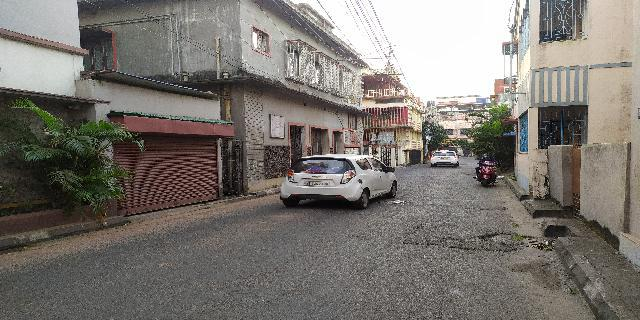Car: (276, 152, 404, 209), (429, 147, 462, 170)
Motorbike: (476, 147, 499, 190)
